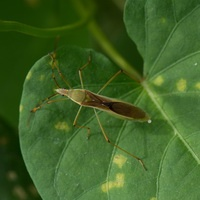insect: (30, 47, 150, 169)
